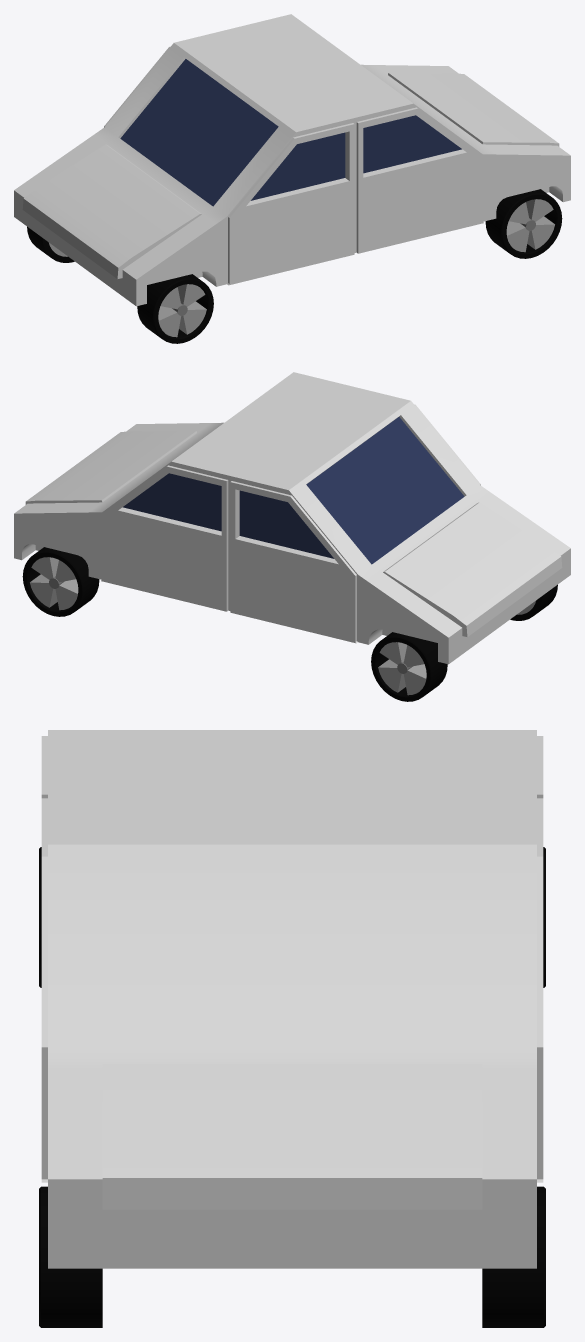
The model's file is Car_Var_1.fbx.
3 renders of one model, top to bottom at view 1: azimuth 30°, elevation 25°; view 2: azimuth 150°, elevation 25°; view 3: azimuth 270°, elevation 25°, orthographic. The views are drawn at different scales.
Parts seen in each view (by area): view 1: Car_Var_1; view 2: Car_Var_1; view 3: Car_Var_1.
Part boxes in pixels (<box>): Car_Var_1: <box>14,14,570,343</box>; Car_Var_1: <box>14,372,570,701</box>; Car_Var_1: <box>39,730,545,1327</box>.
Size of the model in its own units: 5.77 by 2.87 by 2.26.
